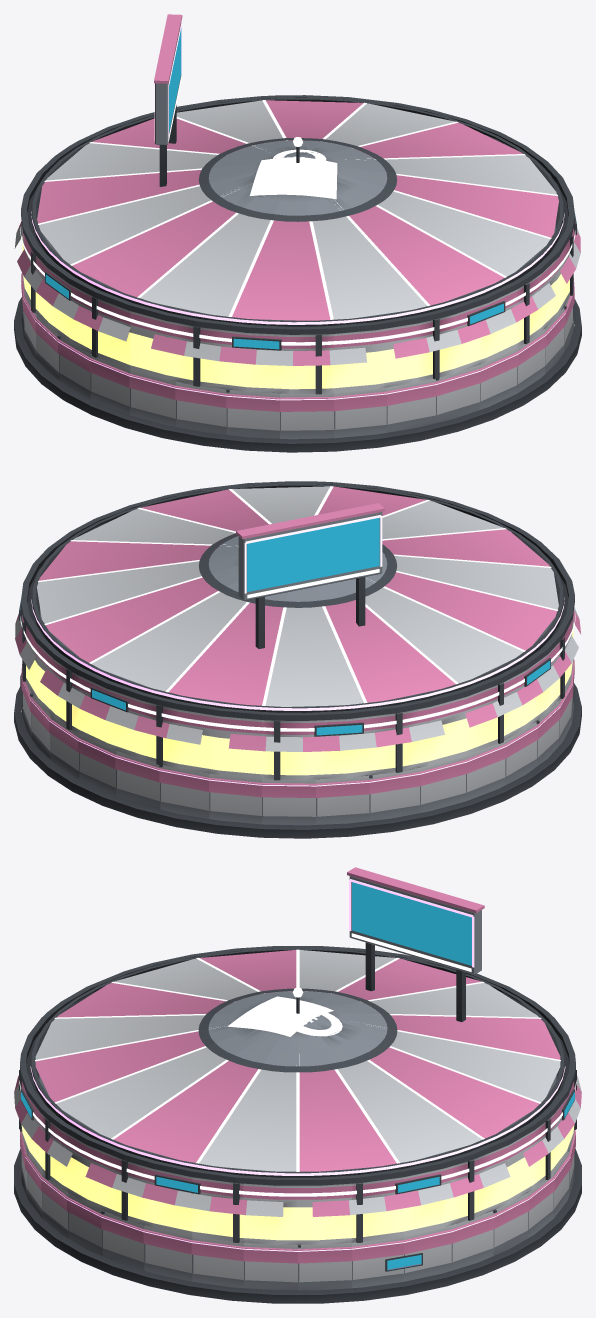
Rendered from retail_m.glb.
3 views of the same model, one above another, from view 1: azimuth 30°, elevation 25°; view 2: azimuth 150°, elevation 25°; view 3: azimuth 270°, elevation 25° (orthographic).
Visible parts, largest first — view 1: Roof, PorchTop, Base, Upper_22, Wall_20, Wall_21, Wall_22, Upper_21, Upper_23, Wall_19, Upper_18, Wall_23 (+19 smaller); view 2: Roof, PorchTop, Base, Upper_09, Wall_11, Wall_10, Wall_09, Upper_10, Upper_08, Wall_12, Upper_13, Wall_08 (+24 smaller); view 3: Roof, PorchTop, Base, Upper_00, Upper_31, Wall_00, Wall_31, Wall_30, Wall_29, Upper_01, Upper_30, Wall_01 (+18 smaller).
Boxes of the visible parts, bbox=[...] form: Roof: bbox=[14, 14, 580, 365]; PorchTop: bbox=[20, 22, 576, 350]; Base: bbox=[14, 297, 581, 452]; Upper_22: bbox=[334, 328, 386, 392]; Wall_20: bbox=[226, 389, 279, 438]; Wall_21: bbox=[280, 393, 334, 439]; Wall_22: bbox=[334, 387, 386, 438]; Upper_21: bbox=[280, 334, 333, 394]; Upper_23: bbox=[386, 319, 437, 386]; Wall_19: bbox=[175, 381, 226, 434]; Upper_18: bbox=[130, 311, 176, 381]; Wall_23: bbox=[386, 379, 436, 432]; Roof: bbox=[15, 481, 578, 751]; PorchTop: bbox=[19, 486, 575, 736]; Base: bbox=[14, 683, 581, 838]; Upper_09: bbox=[209, 714, 261, 779]; Wall_11: bbox=[316, 775, 369, 824]; Wall_10: bbox=[261, 779, 315, 825]; Wall_09: bbox=[209, 773, 261, 824]; Upper_10: bbox=[262, 720, 315, 780]; Upper_08: bbox=[158, 705, 209, 773]; Wall_12: bbox=[369, 767, 420, 820]; Upper_13: bbox=[419, 697, 465, 767]; Wall_08: bbox=[159, 765, 209, 818]; Roof: bbox=[14, 867, 581, 1216]; PorchTop: bbox=[19, 879, 576, 1196]; Base: bbox=[14, 1148, 581, 1303]; Upper_00: bbox=[298, 1183, 351, 1244]; Upper_31: bbox=[244, 1183, 297, 1244]; Wall_00: bbox=[298, 1242, 352, 1290]; Wall_31: bbox=[243, 1242, 297, 1290]; Wall_30: bbox=[191, 1236, 243, 1288]; Wall_29: bbox=[143, 1225, 192, 1281]; Upper_01: bbox=[352, 1177, 403, 1242]; Upper_30: bbox=[192, 1177, 243, 1242]; Wall_01: bbox=[352, 1236, 404, 1288].
Bounding box in the file's own units: 14.76 × 7.45 × 14.75.
